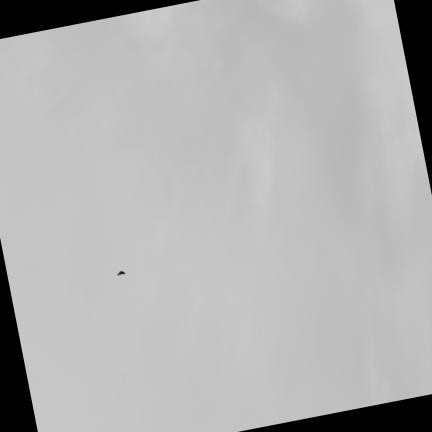Shahed: (118, 270, 125, 273)
